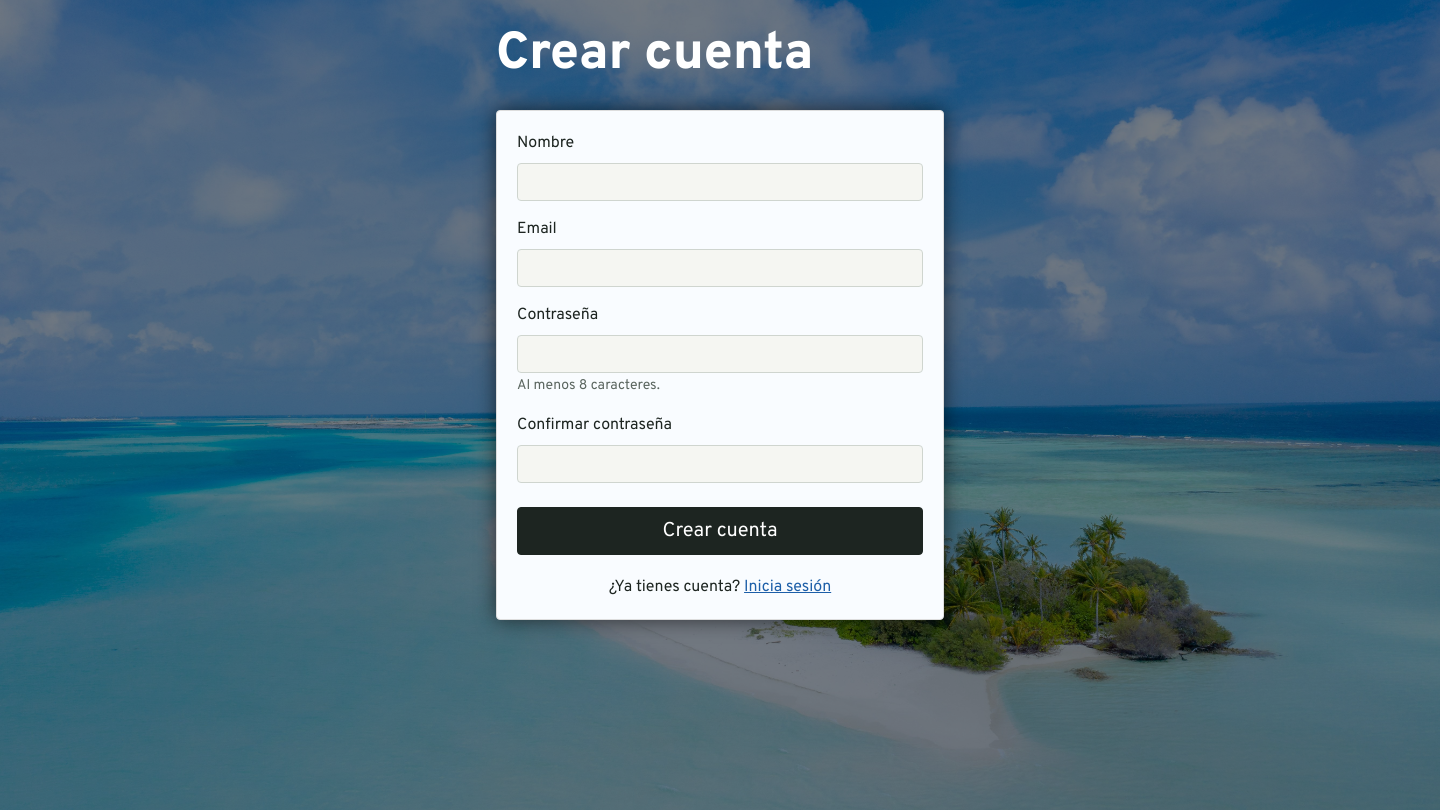
B2 RegisterPage › empty fields show a message each and nothing is sent
Click the button "Crear cuenta": (720, 531) [517,507,923,555]
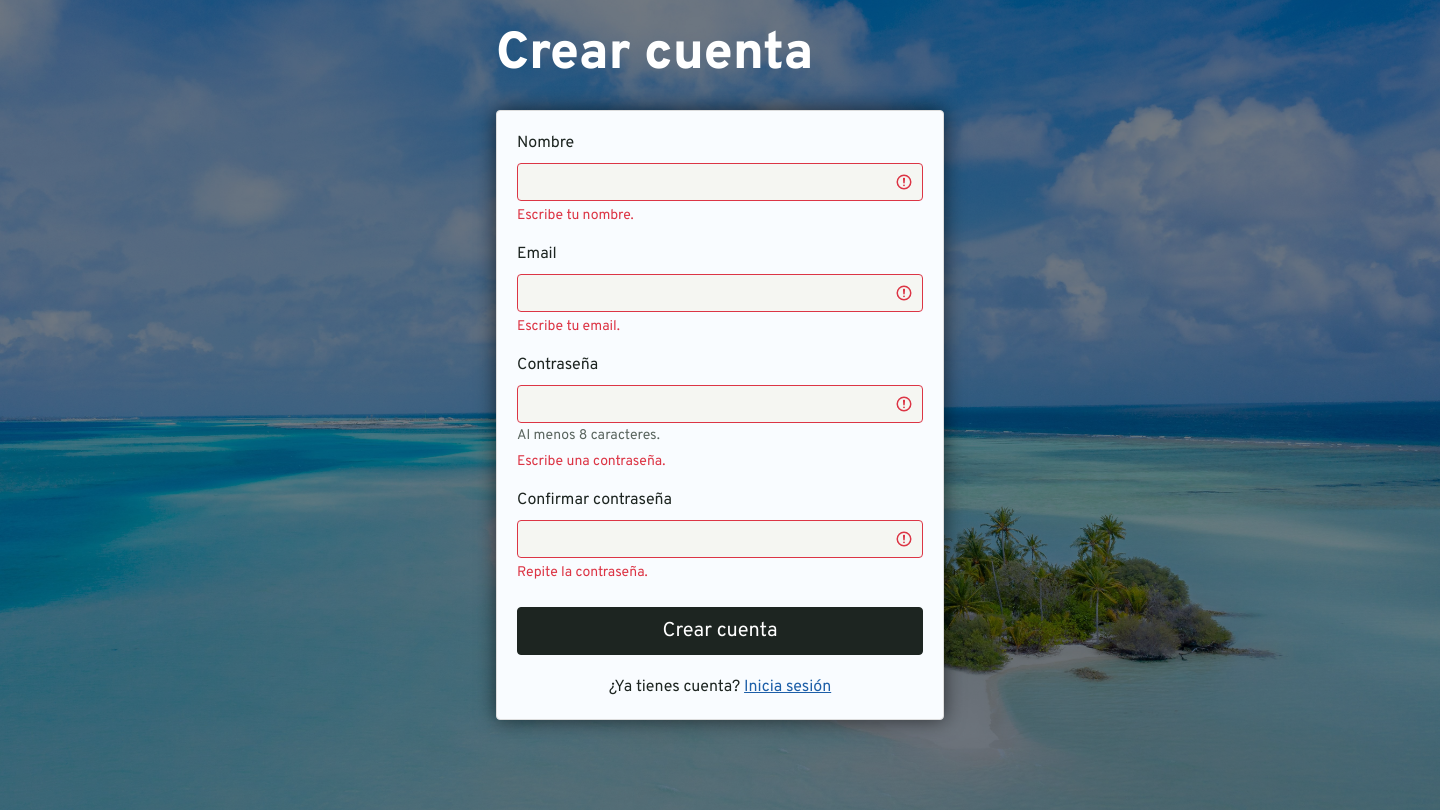
Expected: the text "Escribe tu nombre." is shown, [517,207,634,224]
Expected: the text "Escribe tu email." is shown, [517,318,620,335]
Expected: the text "Escribe una contraseña." is shown, [517,453,665,470]
